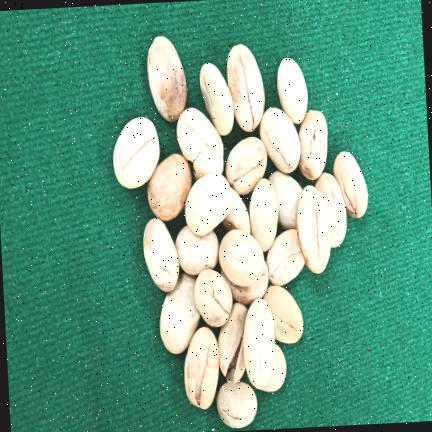parchment: (147, 36, 187, 122), (177, 108, 224, 180), (227, 44, 265, 132), (113, 117, 160, 188), (160, 273, 200, 353), (297, 185, 331, 273), (148, 154, 192, 221), (184, 327, 219, 409), (244, 298, 275, 389), (143, 218, 179, 292), (260, 108, 300, 173), (219, 229, 264, 286), (200, 63, 234, 135), (218, 302, 248, 383), (226, 137, 267, 195), (315, 173, 347, 247), (333, 152, 368, 218), (263, 286, 303, 343), (195, 269, 233, 327), (266, 229, 304, 286), (249, 178, 278, 252), (176, 226, 219, 275), (221, 260, 268, 304), (277, 58, 308, 124), (268, 170, 302, 230), (299, 110, 328, 180), (217, 381, 257, 428), (222, 188, 250, 234), (261, 343, 287, 392)
